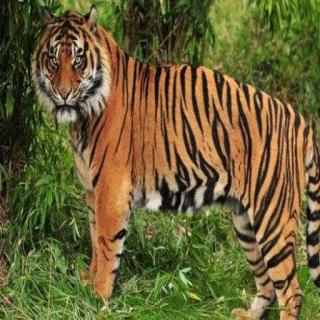Tiger: (32, 4, 320, 315)
